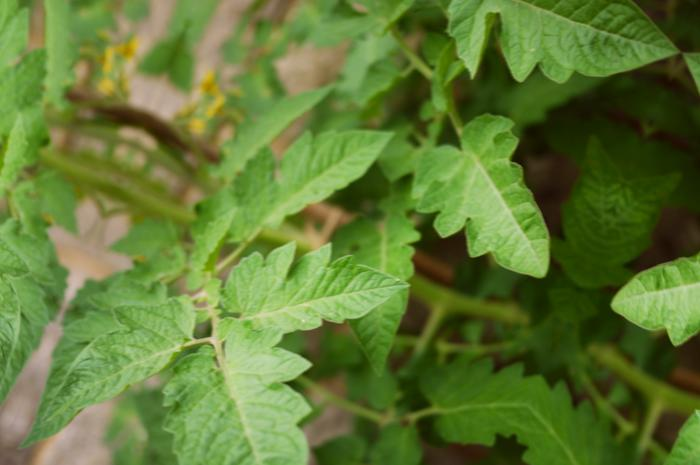Tomato leaf: (396, 0, 697, 169), (195, 194, 428, 408), (373, 91, 602, 299), (209, 77, 401, 290), (118, 313, 367, 465), (34, 265, 216, 465), (213, 54, 346, 215), (275, 0, 432, 20)
